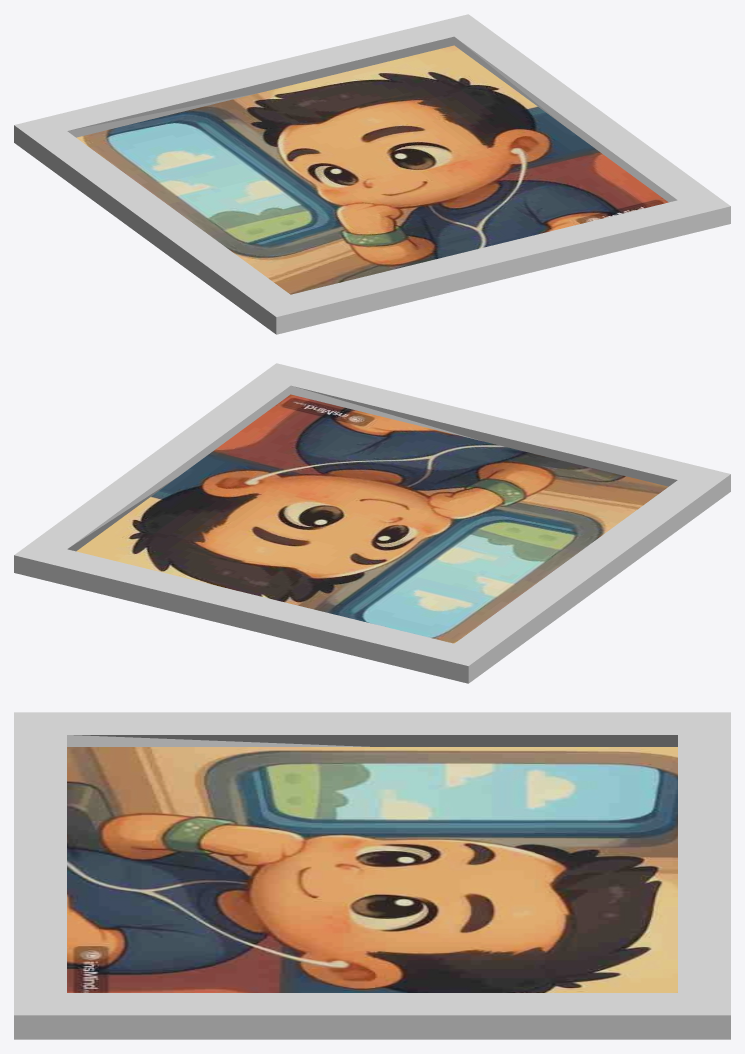
File: Profe Paco.fbx
The picture shows the model from 3 angles, top to bottom: view 1: azimuth 30°, elevation 25°; view 2: azimuth 150°, elevation 25°; view 3: azimuth 270°, elevation 25°; orthographic projection. The views are drawn at different scales.
Parts seen in each view (by area): view 1: Profe, Cube; view 2: Profe, Cube; view 3: Profe, Cube.
Boxes of the visible parts, x1,y1,x2,y2 form: Profe: (76, 45, 668, 294); Cube: (14, 14, 730, 334); Profe: (76, 394, 668, 643); Cube: (14, 363, 730, 683); Profe: (67, 747, 677, 992); Cube: (14, 712, 730, 1039).
Bounding box in the file's own units: 108 × 4 × 108.
